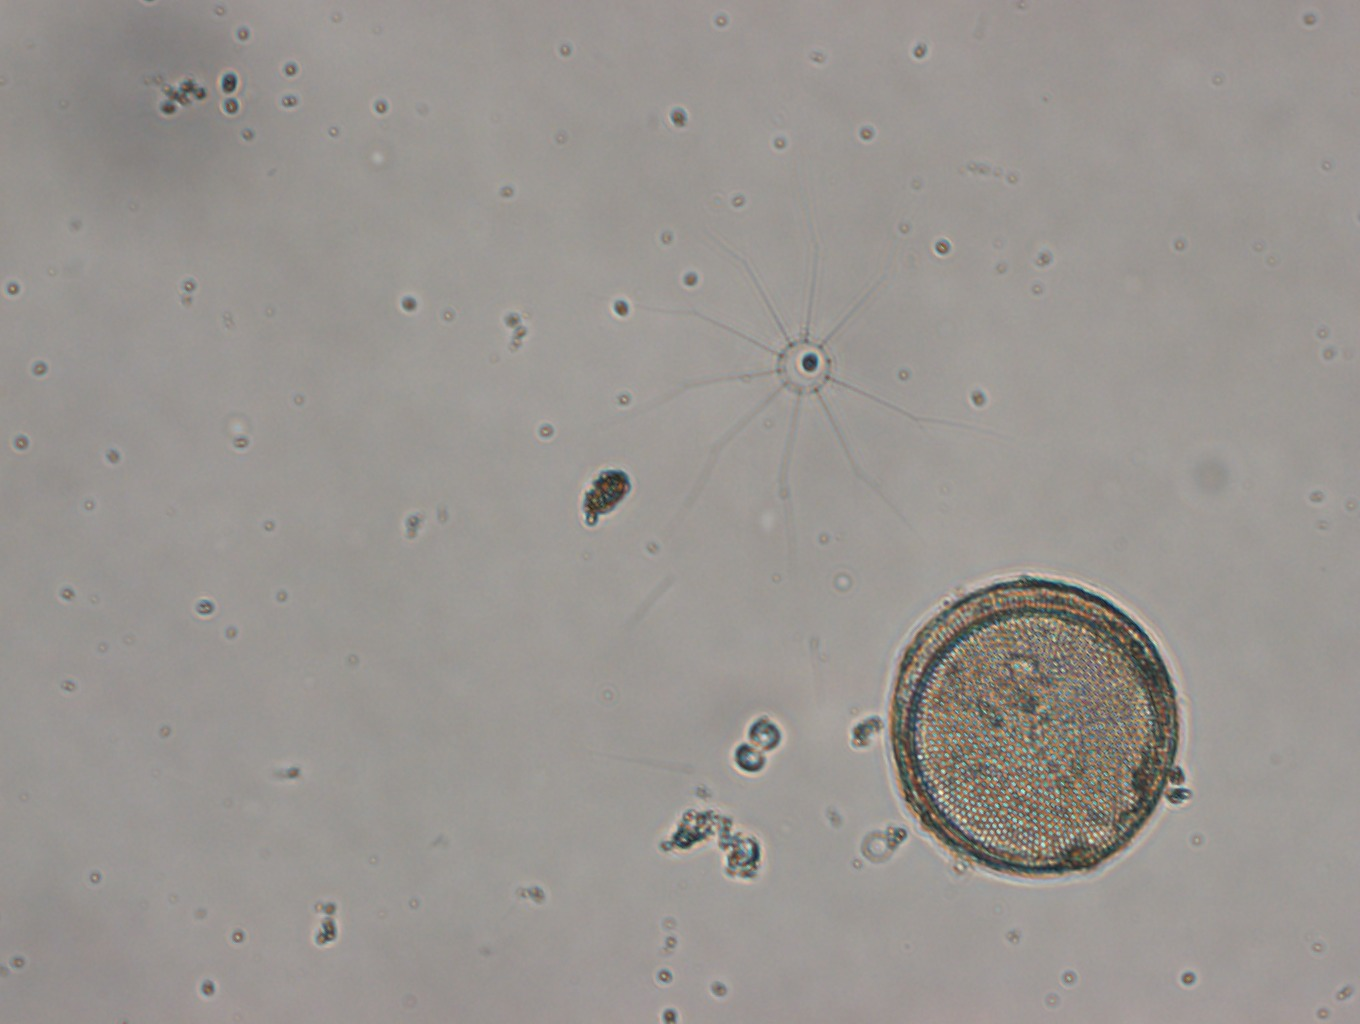bacteriastrum: (630, 208, 1012, 560)
coscinodiscus: (881, 577, 1194, 890)
